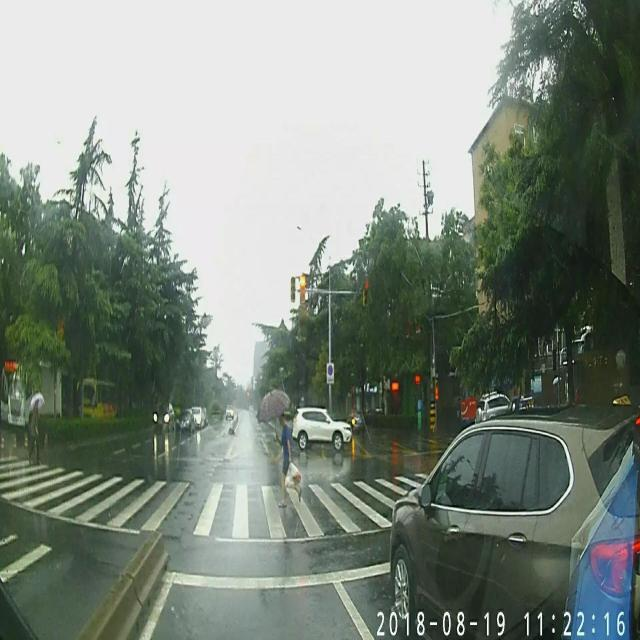car: (390, 412, 640, 638), (292, 404, 352, 450), (475, 392, 514, 419), (153, 402, 173, 430), (176, 412, 194, 438), (348, 412, 365, 432), (192, 405, 206, 428)
